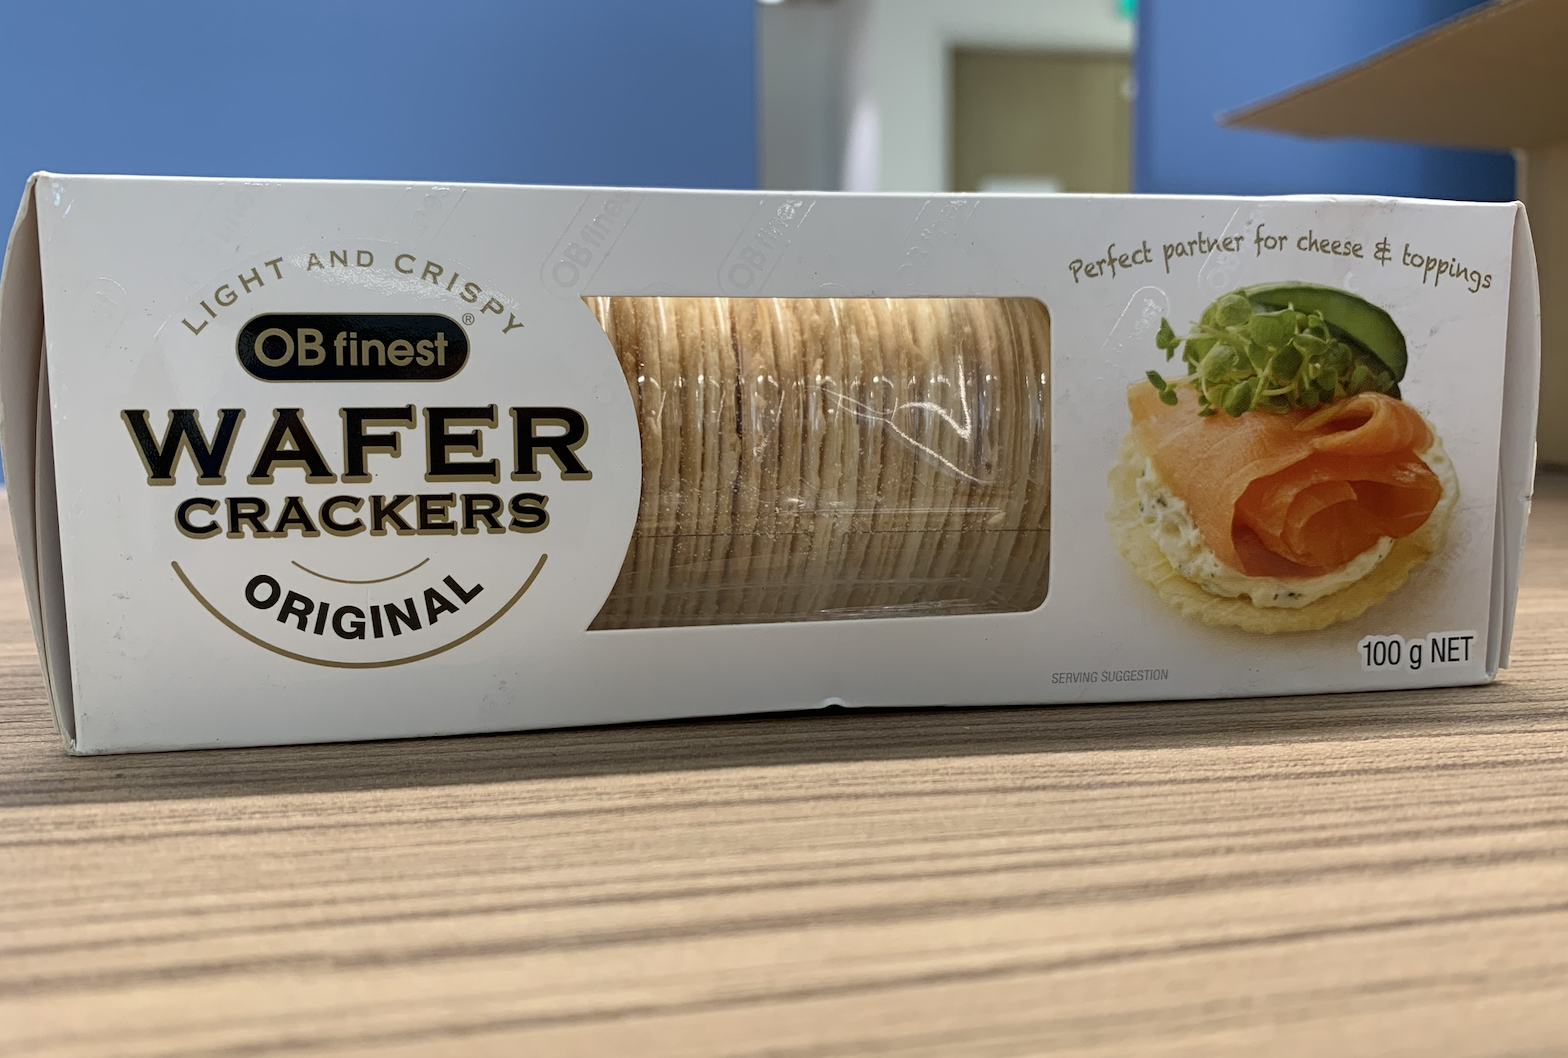crackers_100g-199g: (115, 211, 1490, 683)
